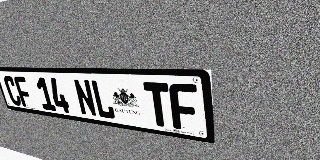1: (34, 77, 56, 111)
4: (47, 78, 71, 113)
C: (2, 76, 23, 106)
F: (168, 83, 199, 132), (13, 76, 34, 108)
L: (90, 80, 116, 120)
N: (72, 79, 98, 117)
T: (143, 82, 172, 128)
